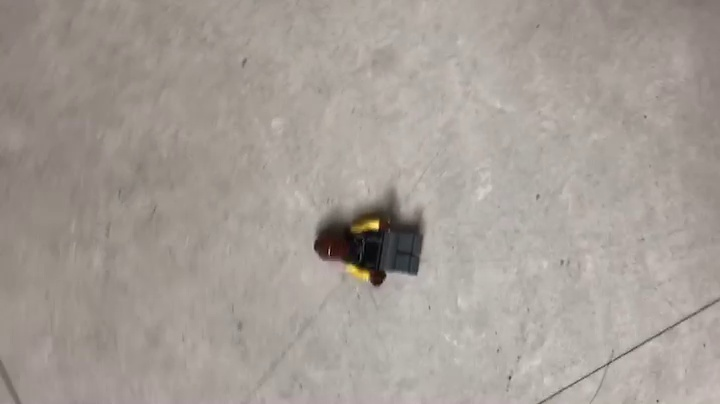people: (313, 213, 425, 287)
